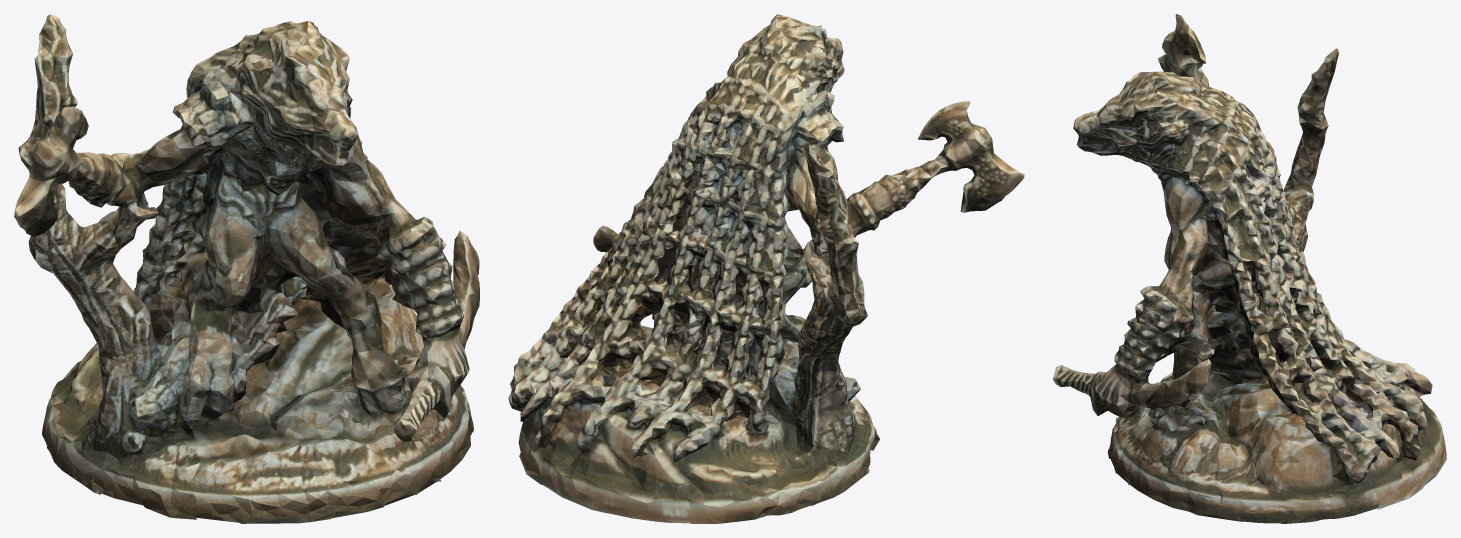
The model's file is unchained_warbeast.glb.
3 views of the same model, side by side, from view 1: azimuth 30°, elevation 25°; view 2: azimuth 150°, elevation 25°; view 3: azimuth 270°, elevation 25° (orthographic). The views are drawn at different scales.
Visible parts, largest first — view 1: geometry_0; view 2: geometry_0; view 3: geometry_0.
Part boxes in pixels (left/top/right/bottom): geometry_0: left=14, top=14, right=479, bottom=523; geometry_0: left=508, top=14, right=1024, bottom=523; geometry_0: left=1053, top=14, right=1446, bottom=523.
Size of the model in its own units: 0.0305 by 0.0271 by 0.0263.
1 material, 1 textured.
